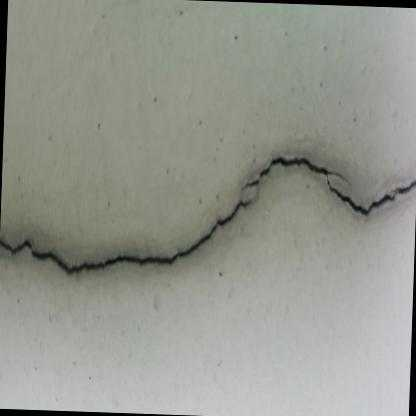crack: (0, 200, 251, 274), (240, 156, 416, 214)
